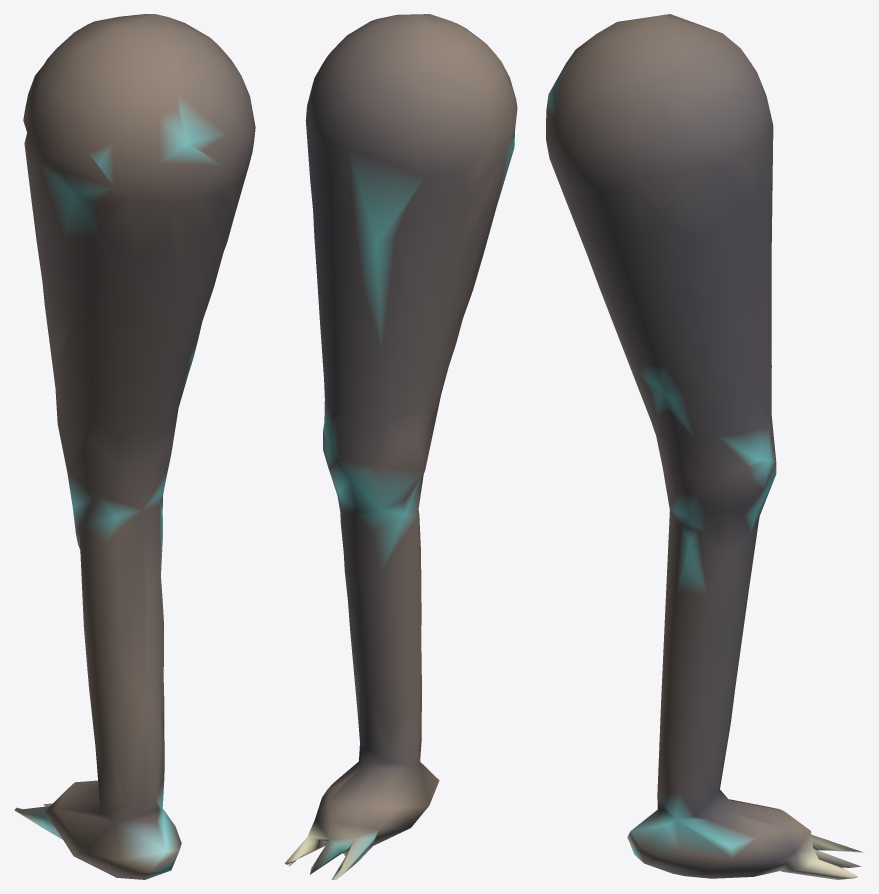
Rendered from hound_leg_fr.glb.
The picture shows the model from 3 angles, left to right: view 1: azimuth 30°, elevation 25°; view 2: azimuth 150°, elevation 25°; view 3: azimuth 270°, elevation 25°; orthographic projection. The views are drawn at different scales.
Visible parts, largest first — view 1: geometry_0; view 2: geometry_0; view 3: geometry_0.
Part boxes in pixels (bbox=[...]): geometry_0: bbox=[14, 14, 255, 879]; geometry_0: bbox=[285, 14, 517, 879]; geometry_0: bbox=[546, 14, 864, 879].
Size of the model in its own units: 0.2236 by 0.9024 by 0.3102.
